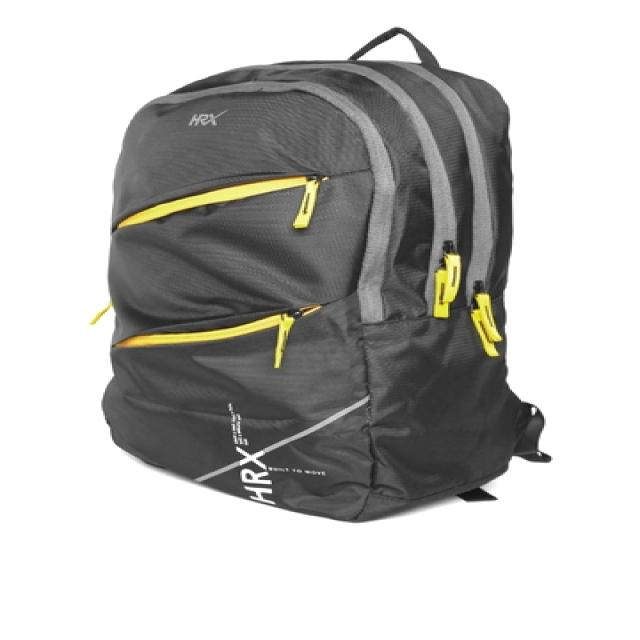backpack: (92, 26, 552, 524)
